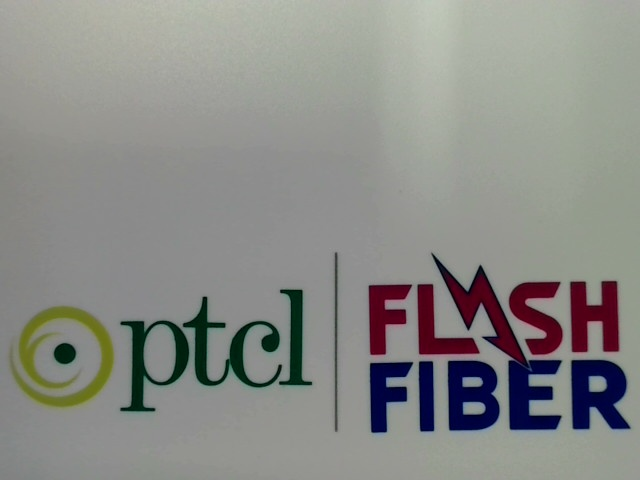BF_PTCL: (4, 281, 312, 413)
